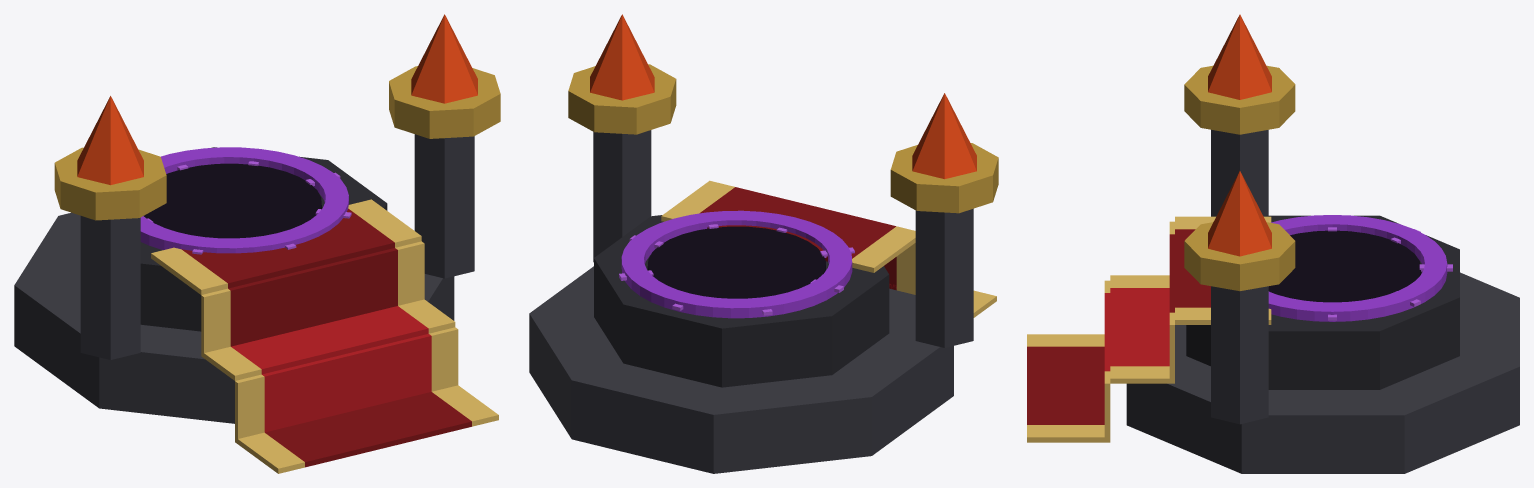
The model's file is Portal.obj.
3 views of the same model, side by side, from view 1: azimuth 30°, elevation 25°; view 2: azimuth 150°, elevation 25°; view 3: azimuth 270°, elevation 25° (orthographic). The views are drawn at different scales.
Visible parts, largest first — view 1: geometry_4, geometry_51, geometry_36, geometry_30, geometry_42, geometry_46, geometry_27, geometry_50, geometry_33, geometry_39, geometry_43, geometry_47 (+13 smaller); view 2: geometry_4, geometry_5, geometry_51, geometry_50, geometry_42, geometry_46, geometry_47, geometry_43, geometry_39, geometry_44, geometry_48, geometry_40 (+2 smaller); view 3: geometry_4, geometry_5, geometry_51, geometry_46, geometry_50, geometry_27, geometry_43, geometry_47, geometry_33, geometry_42, geometry_44, geometry_48 (+7 smaller).
Boxes of the visible parts, <box> form: geometry_4: <box>14,212,454,423</box>; geometry_51: <box>144,163,321,238</box>; geometry_36: <box>228,248,397,346</box>; geometry_30: <box>262,334,431,432</box>; geometry_42: <box>80,216,140,359</box>; geometry_46: <box>414,134,474,278</box>; geometry_27: <box>265,392,471,467</box>; geometry_50: <box>140,147,348,253</box>; geometry_33: <box>231,306,428,374</box>; geometry_39: <box>182,208,394,288</box>; geometry_43: <box>54,147,166,220</box>; geometry_47: <box>389,66,500,138</box>; geometry_4: <box>529,266,953,473</box>; geometry_5: <box>594,215,889,387</box>; geometry_51: <box>647,226,825,298</box>; geometry_50: <box>621,210,852,318</box>; geometry_42: <box>915,208,973,347</box>; geometry_46: <box>593,130,651,262</box>; geometry_47: <box>568,64,676,134</box>; geometry_43: <box>890,143,998,213</box>; geometry_39: <box>699,187,895,261</box>; geometry_44: <box>912,93,976,179</box>; geometry_48: <box>590,14,654,100</box>; geometry_40: <box>852,226,915,272</box>; geometry_4: <box>1126,272,1519,473</box>; geometry_5: <box>1186,215,1459,389</box>; geometry_51: <box>1268,230,1421,302</box>; geometry_46: <box>1211,286,1268,424</box>; geometry_50: <box>1268,215,1447,321</box>; geometry_27: <box>1027,346,1104,424</box>; geometry_43: <box>1184,65,1295,134</box>; geometry_47: <box>1184,222,1295,291</box>; geometry_33: <box>1110,288,1169,366</box>; geometry_42: <box>1211,129,1268,216</box>; geometry_44: <box>1208,14,1271,99</box>; geometry_48: <box>1208,171,1271,256</box>.
Bounding box in the file's own units: 2.6 × 1.78 × 2.66.
